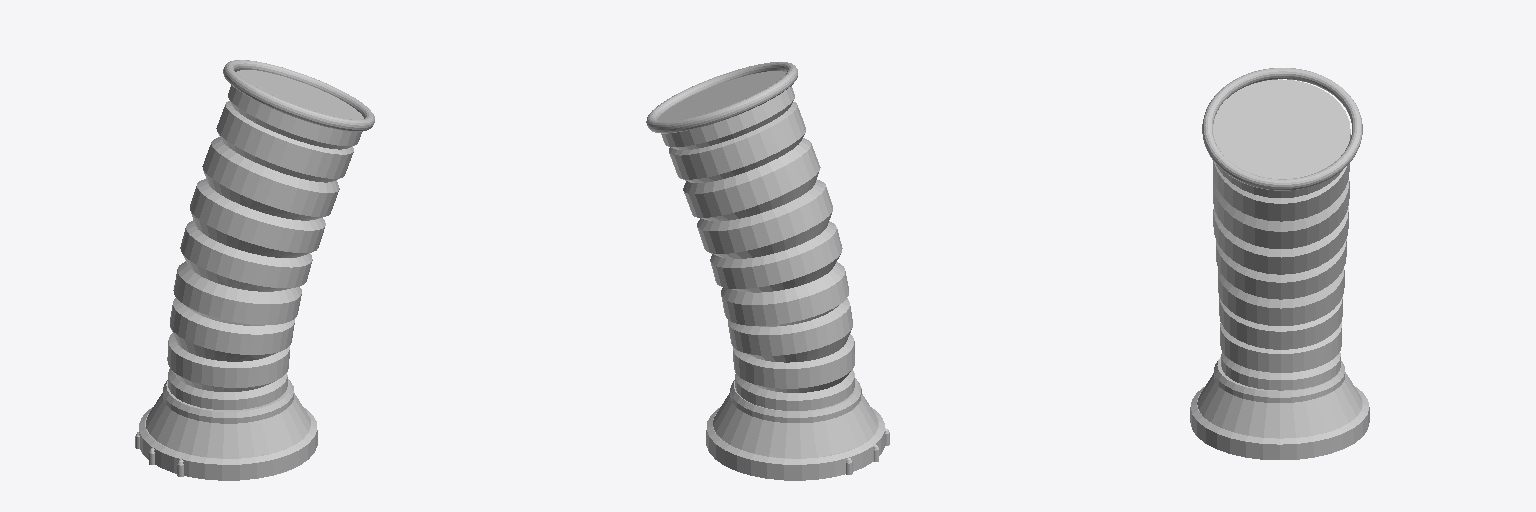
File: FrenteIzquierda.obj
The picture shows the model from 3 angles: view 1: azimuth 30°, elevation 25°; view 2: azimuth 150°, elevation 25°; view 3: azimuth 270°, elevation 25°; orthographic projection.
Visible parts, largest first — view 1: Izq_Delantera_Goddard_None; view 2: Izq_Delantera_Goddard_None; view 3: Izq_Delantera_Goddard_None.
Boxes of the visible parts, x1,y1,x2,y2 form: Izq_Delantera_Goddard_None: [135, 60, 374, 480]; Izq_Delantera_Goddard_None: [646, 62, 889, 480]; Izq_Delantera_Goddard_None: [1190, 68, 1369, 459].
Size of the model in its own units: 1.45 by 2.29 by 1.03.